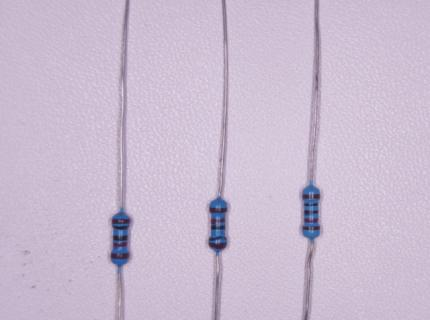Black band: (113, 235, 128, 241), (209, 236, 227, 241), (305, 210, 318, 215), (211, 226, 225, 230), (113, 226, 129, 229), (304, 203, 318, 206)
Brown band: (209, 242, 227, 249), (111, 253, 129, 259), (210, 207, 227, 213), (112, 219, 130, 224), (303, 194, 320, 198), (303, 226, 320, 230)
Red band: (211, 218, 225, 224), (114, 243, 127, 248), (305, 218, 318, 222)
